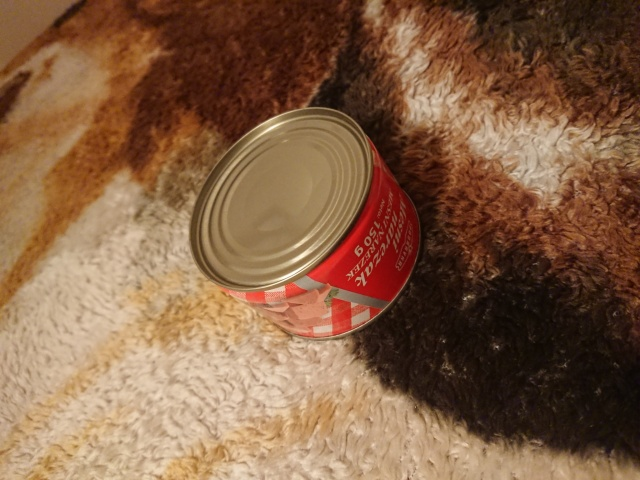Podravka Luncheon Meat 150g: (184, 105, 423, 343)
